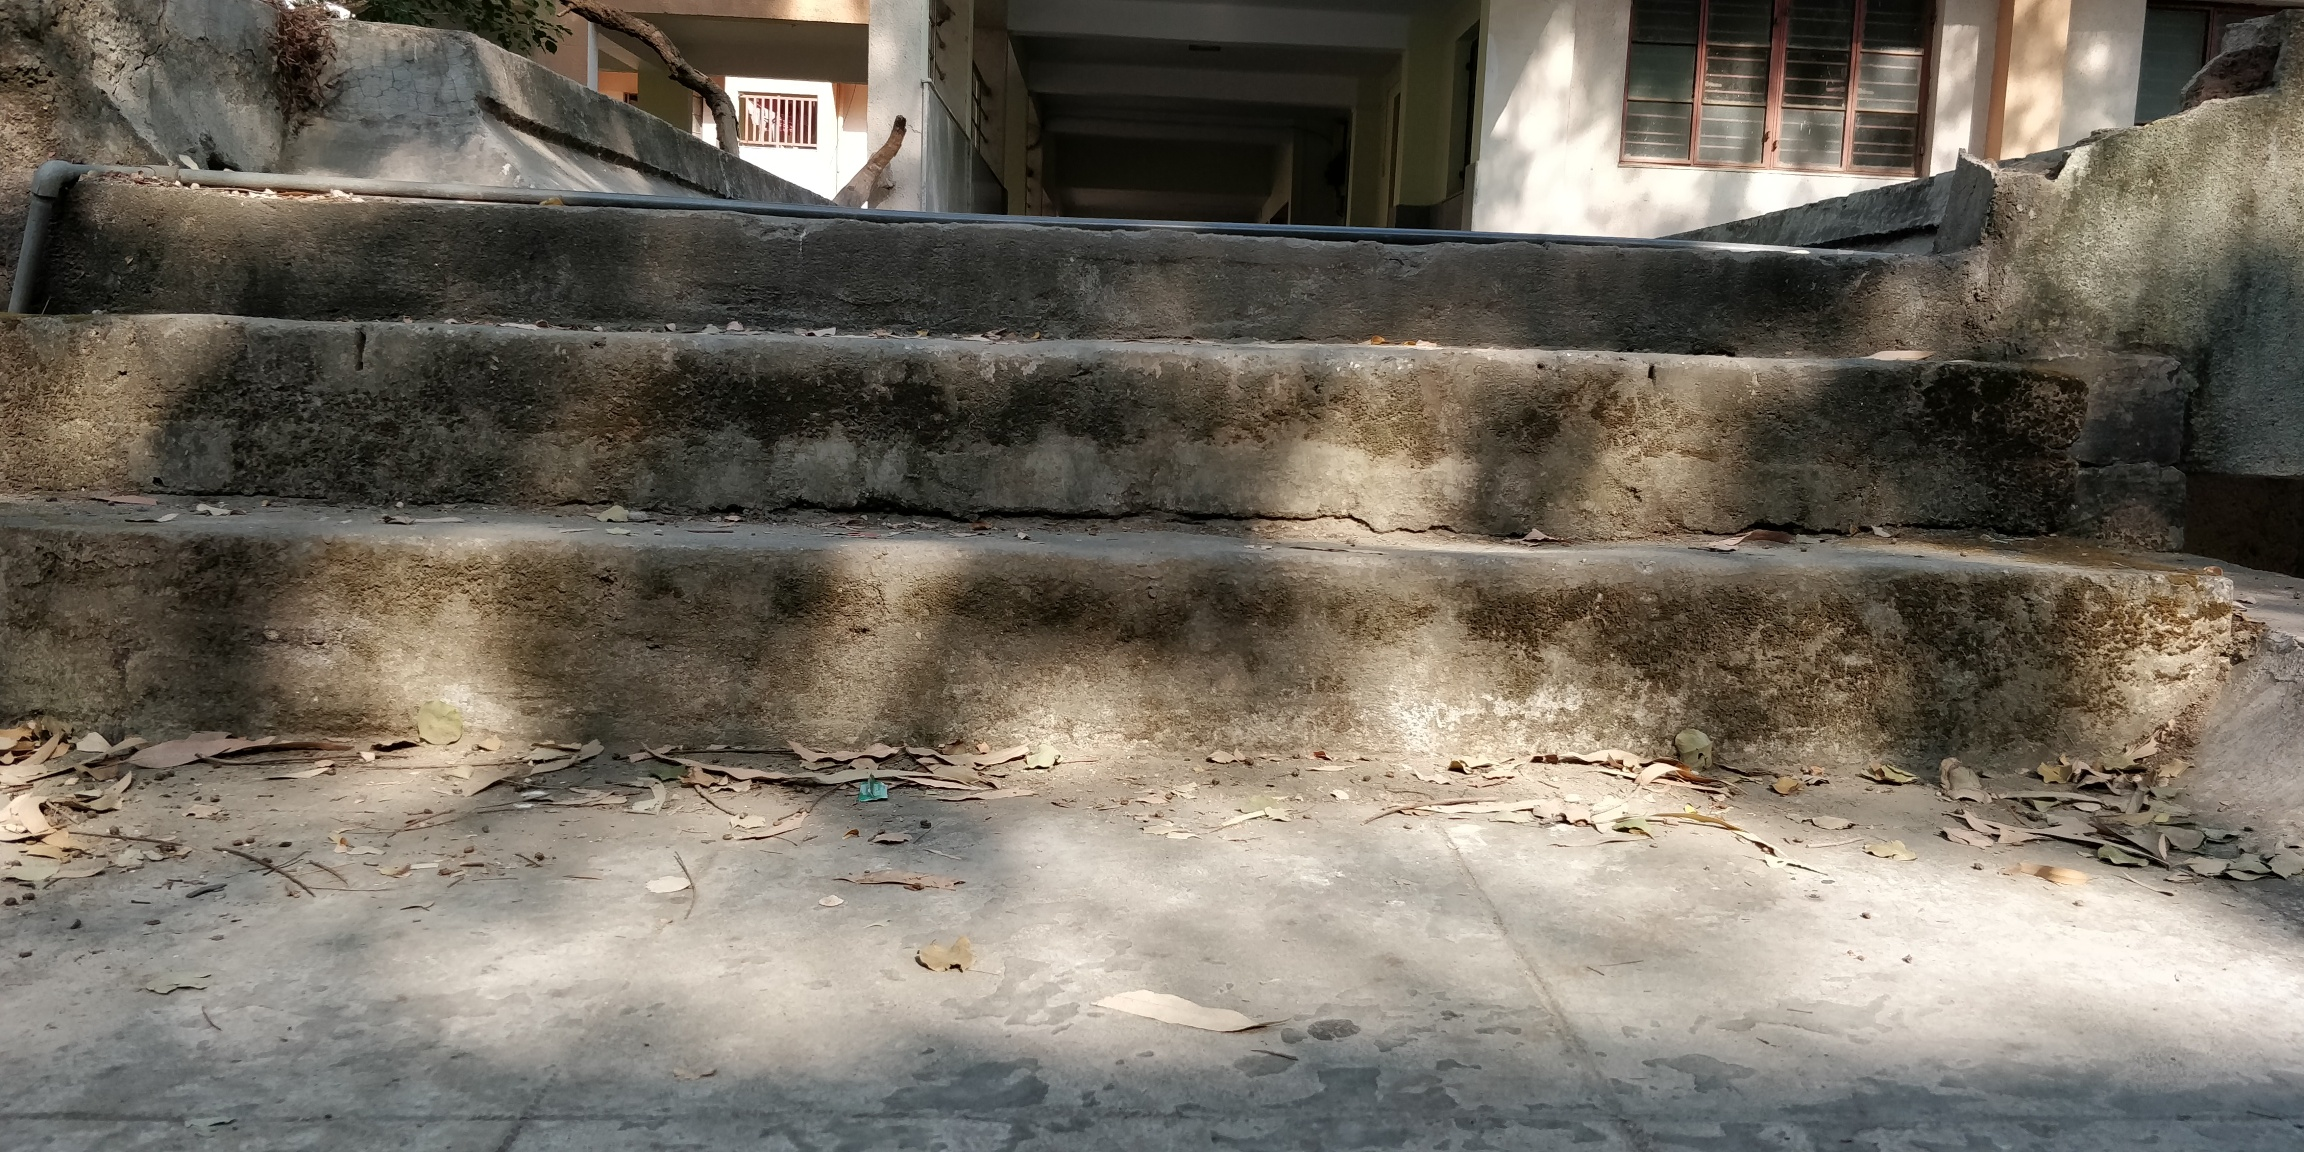stairs_up: (68, 157, 2166, 773)
